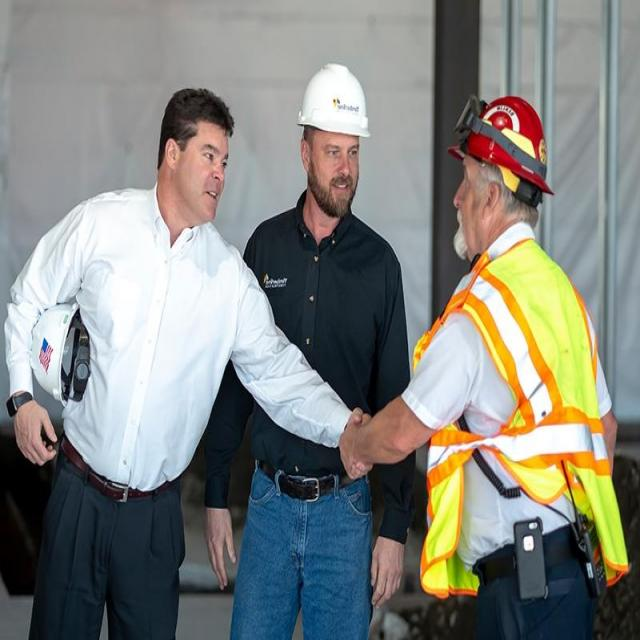Reflective-Jacket: (416, 242, 625, 588)
Safety-Helmet: (452, 88, 557, 195), (296, 56, 374, 142)
